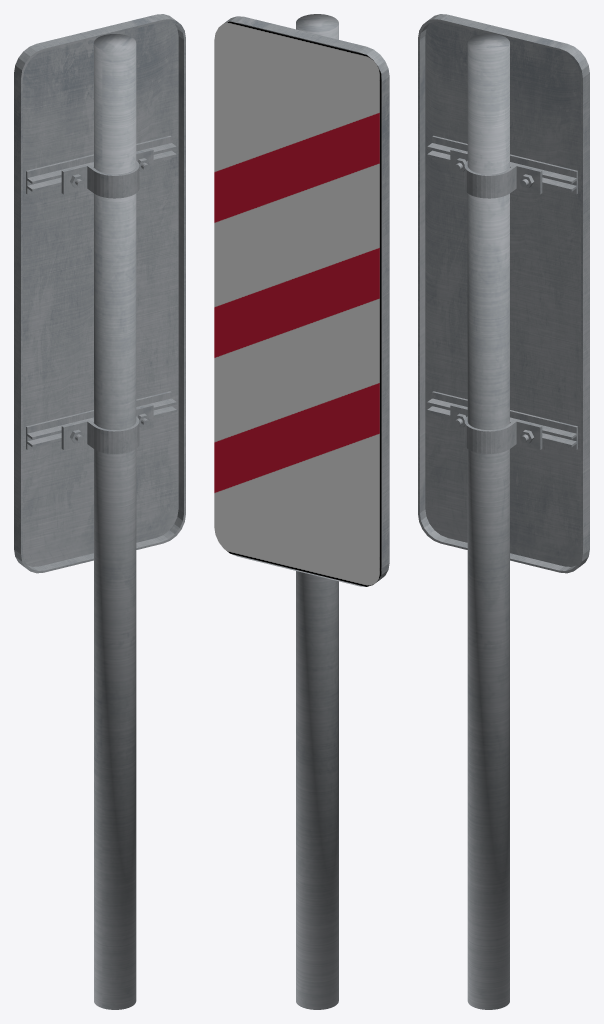
File: Countdown_marker_to_level_crossing__3_.fbx
3 views of the same model, side by side, from view 1: azimuth 30°, elevation 25°; view 2: azimuth 150°, elevation 25°; view 3: azimuth 330°, elevation 25° (orthographic). The views are drawn at different scales.
Parts seen in each view (by area): view 1: Countdown marker to level crossing (3); view 2: Countdown marker to level crossing (3); view 3: Countdown marker to level crossing (3).
Part boxes in pixels (bbox=[...]): Countdown marker to level crossing (3): bbox=[14, 14, 185, 1009]; Countdown marker to level crossing (3): bbox=[214, 14, 389, 1009]; Countdown marker to level crossing (3): bbox=[418, 14, 589, 1009].
Size of the model in its own units: 0.0875 by 0.27 by 1.5.
